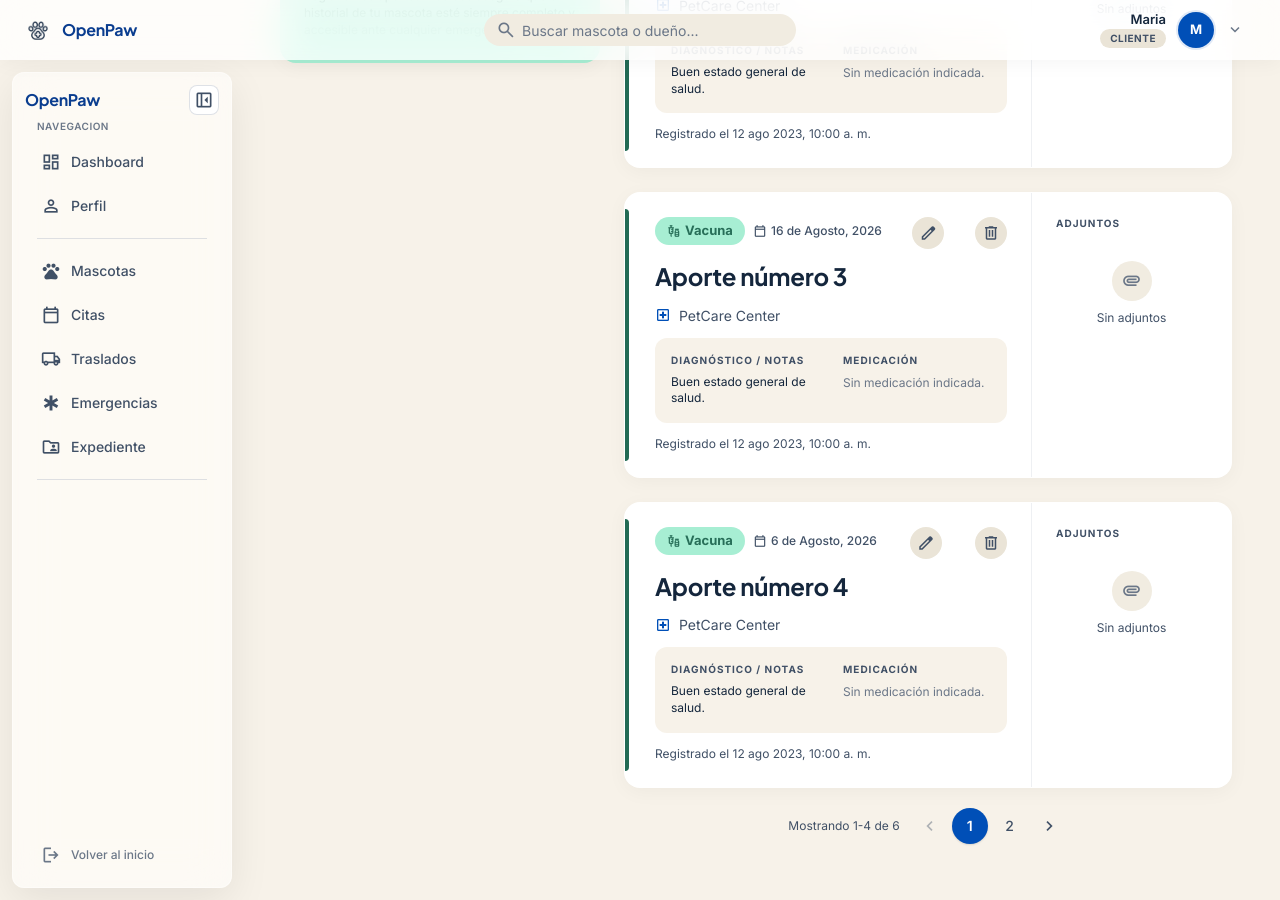
Test: AportesPage - rediseño Sprint 2 (T36) › paginación DS: 6 aportes en páginas de 4 con clamp y navegación
(page scrolled)
Expected: the text "Mostrando 1-4 de 6" is shown, [788,818,900,834]
Click the button named "Página siguiente" at x=1050, y=826, box [1032,808,1068,844]
(page scrolled)
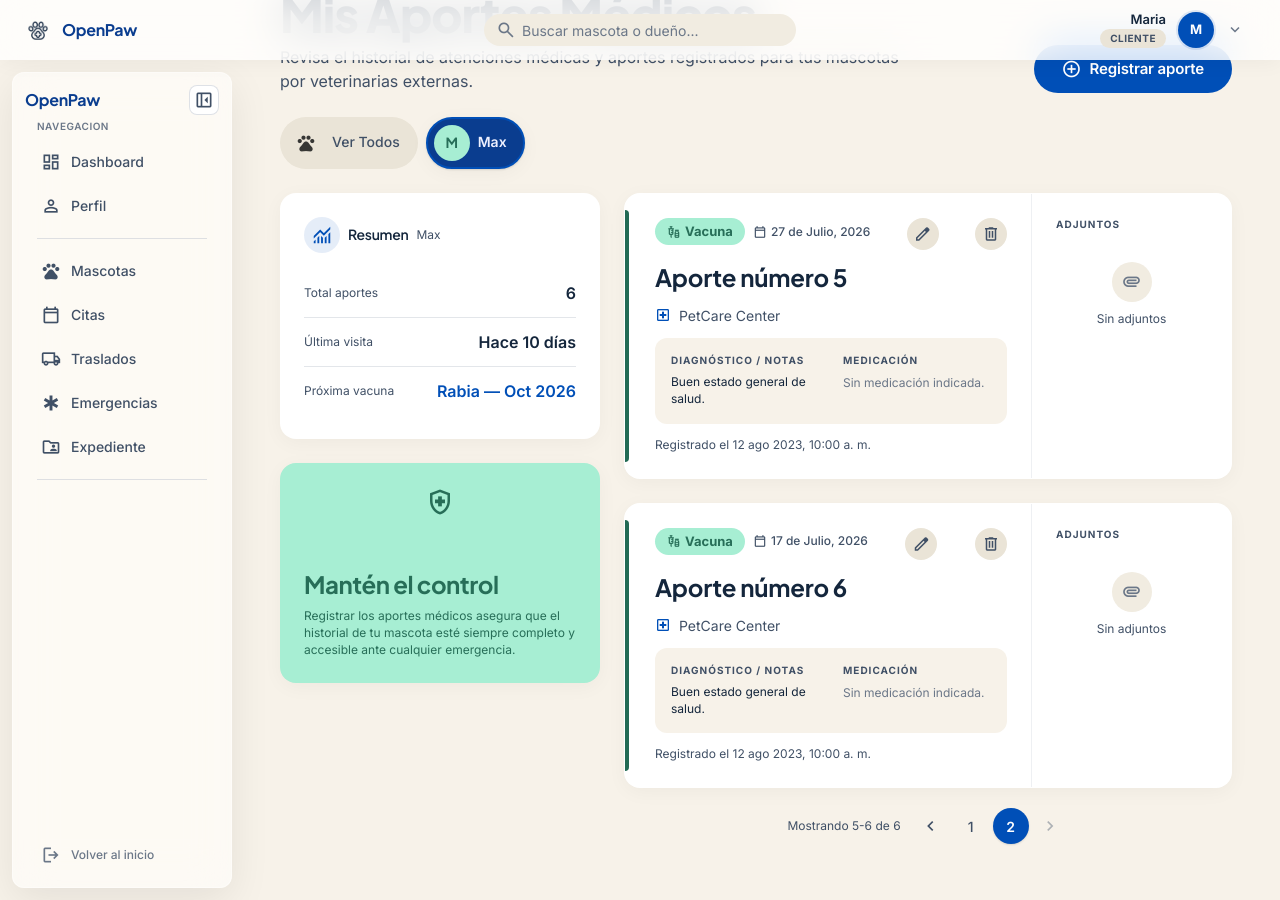
Result: the text "Mostrando 5-6 de 6" is shown at [787,818,901,835]
Result: the button named "Página siguiente" is disabled at [1033,808,1069,844]
